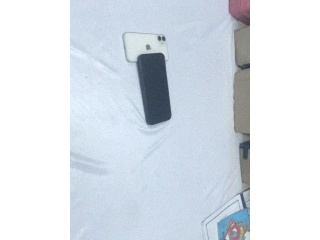book: (199, 186, 249, 240)
phone: (135, 53, 173, 125), (122, 33, 168, 61)
